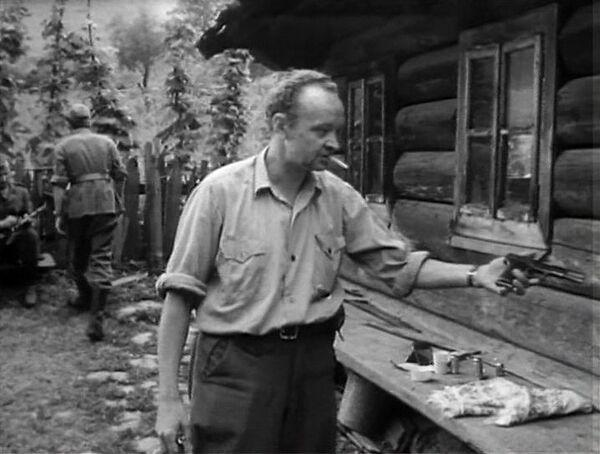Gun: (497, 252, 587, 299)
